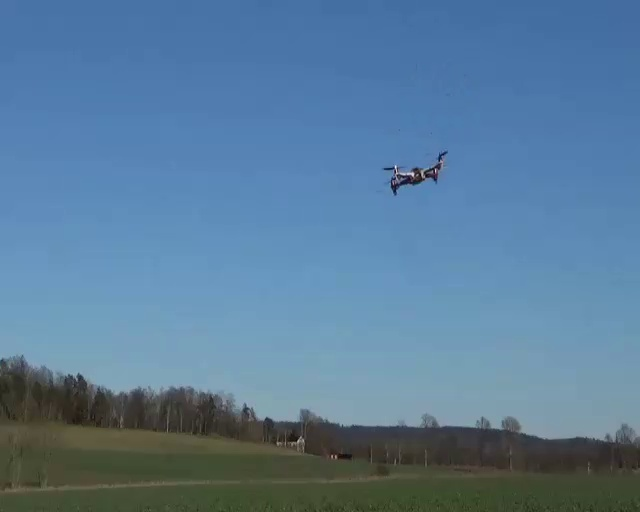DRONE: (381, 149, 450, 196)
